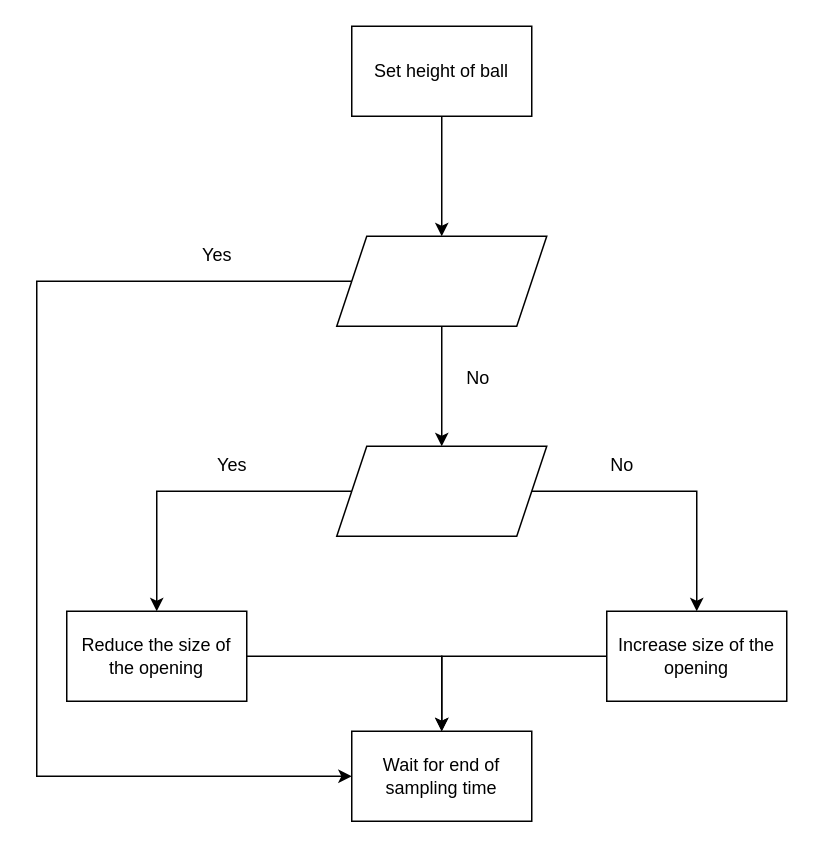
This 813x848 diagram has some shape labels left out. Each missing label, with the centre of its shape:
Is current height equal to required?: the point at 441,280
Is current height lower than required?: the point at 441,490
